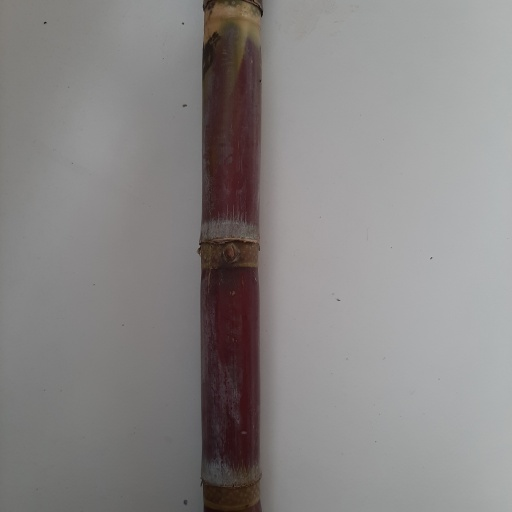Bud: (218, 241, 239, 265)
